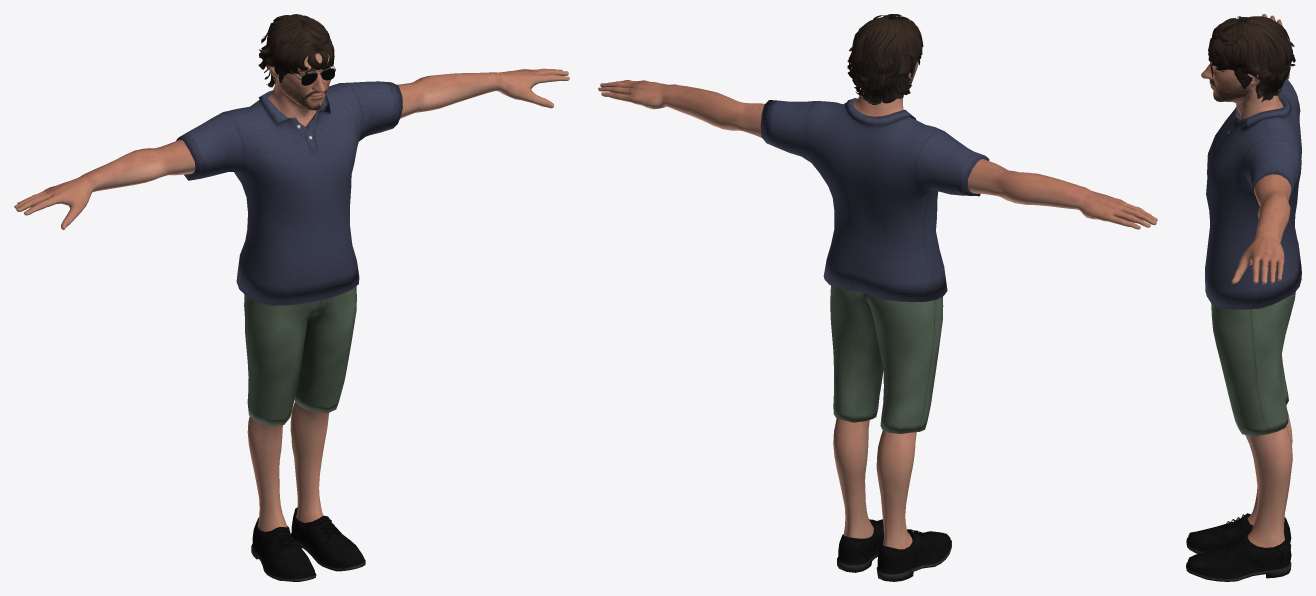
The model's file is Adrian.fbx.
3 renders of one model, left to right at view 1: azimuth 30°, elevation 25°; view 2: azimuth 150°, elevation 25°; view 3: azimuth 270°, elevation 25°, orthographic.
Parts seen in each view (by area): view 1: Tops, Body, Bottoms, Shoes, Hair; view 2: Tops, Body, Bottoms, Hair, Shoes; view 3: Tops, Body, Bottoms, Hair, Shoes.
Boxes of the visible parts, x1,y1,x2,y2 form: Tops: [176, 81, 402, 305]; Body: [14, 53, 569, 531]; Bottoms: [244, 286, 356, 426]; Shoes: [251, 507, 365, 581]; Hair: [258, 14, 334, 87]; Tops: [760, 98, 989, 301]; Body: [598, 60, 1157, 549]; Bottoms: [830, 285, 943, 433]; Hair: [847, 14, 923, 104]; Shoes: [837, 519, 951, 581]; Tops: [1205, 78, 1301, 309]; Body: [1201, 14, 1292, 547]; Bottoms: [1211, 292, 1295, 436]; Hair: [1208, 16, 1295, 102]; Shoes: [1186, 513, 1291, 581].
Bounding box in the file's own units: 9669 × 9031 × 1750.
6 materials, 6 textured.
